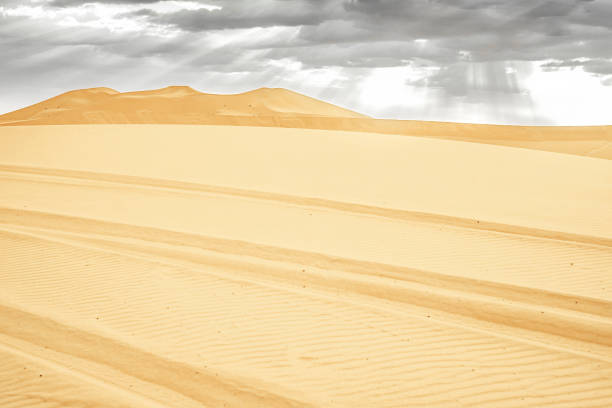vehicle_track: (0, 233, 611, 406), (0, 209, 611, 345), (0, 164, 611, 246)
